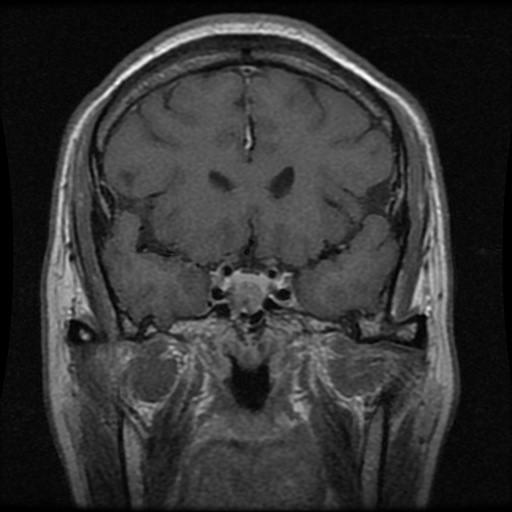pituitary: (224, 269, 268, 314)
